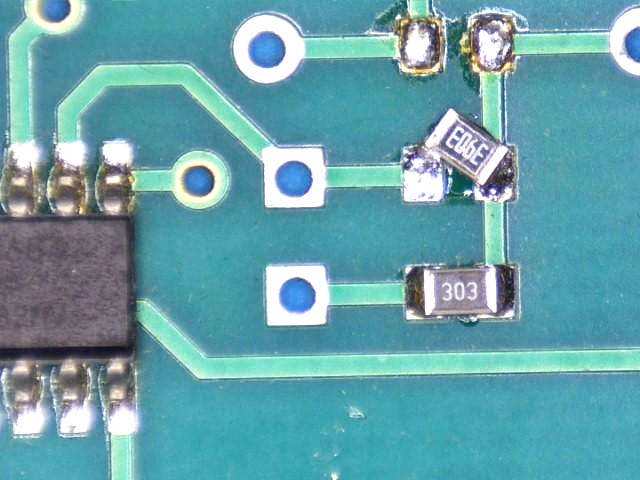pcb_defect: (402, 106, 518, 204)
